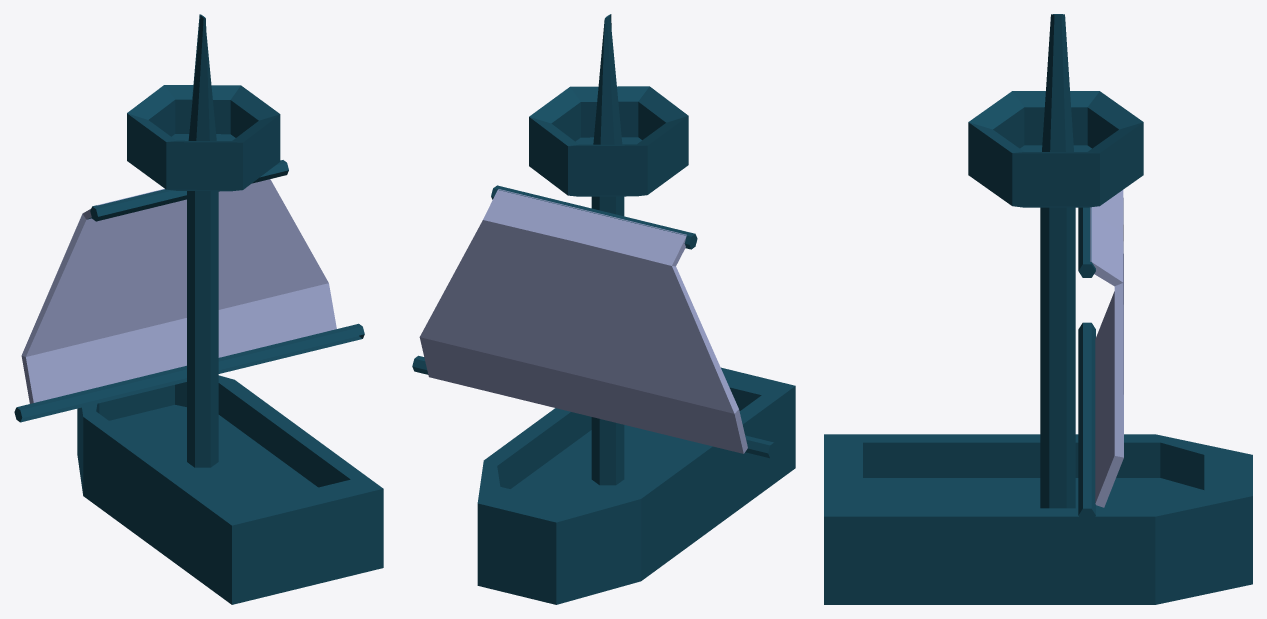
File: ghost_ship.fbx
The picture shows the model from 3 angles, left to right: view 1: azimuth 30°, elevation 25°; view 2: azimuth 150°, elevation 25°; view 3: azimuth 270°, elevation 25°; orthographic projection. The views are drawn at different scales.
Visible parts, largest first — view 1: Ghost_Ship; view 2: Ghost_Ship; view 3: Ghost_Ship.
Boxes of the visible parts, x1=… form: Ghost_Ship: x1=14, y1=14, x2=383, y2=604; Ghost_Ship: x1=412, y1=14, x2=795, y2=604; Ghost_Ship: x1=824, y1=14, x2=1252, y2=604.
Bounding box in the file's own units: 452 × 622 × 440.
